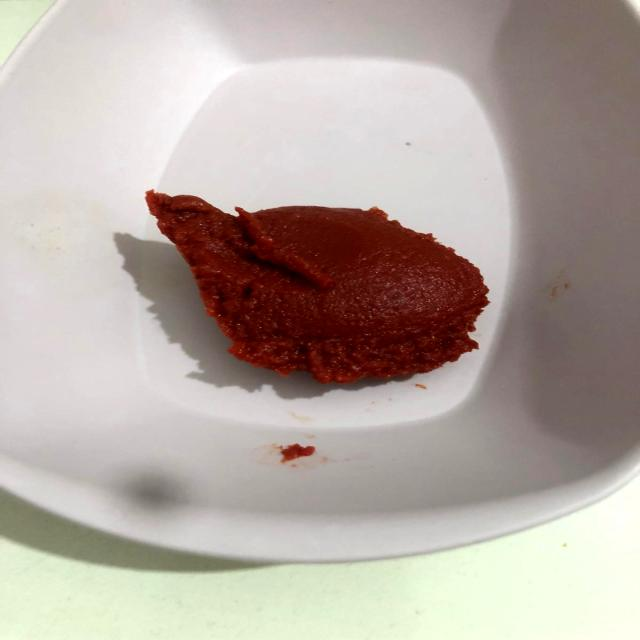tomato: (132, 154, 505, 404)
